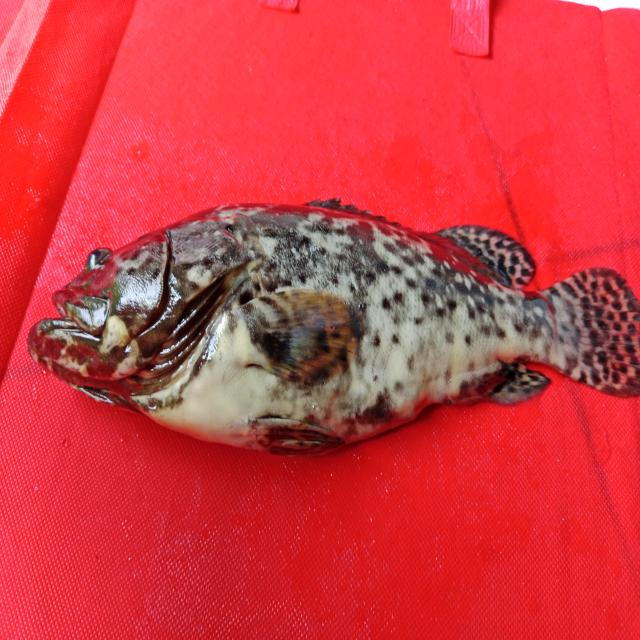ikan: (20, 182, 633, 464)
